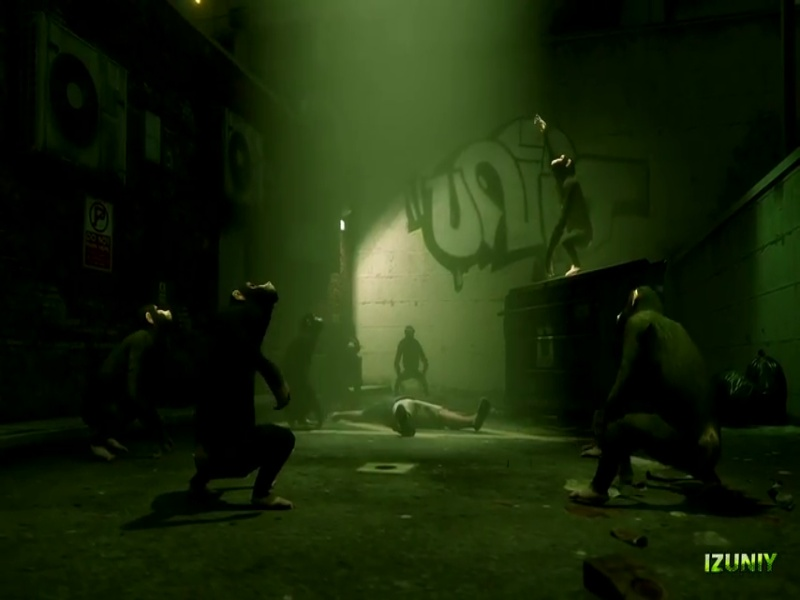human: (132, 281, 301, 519)
